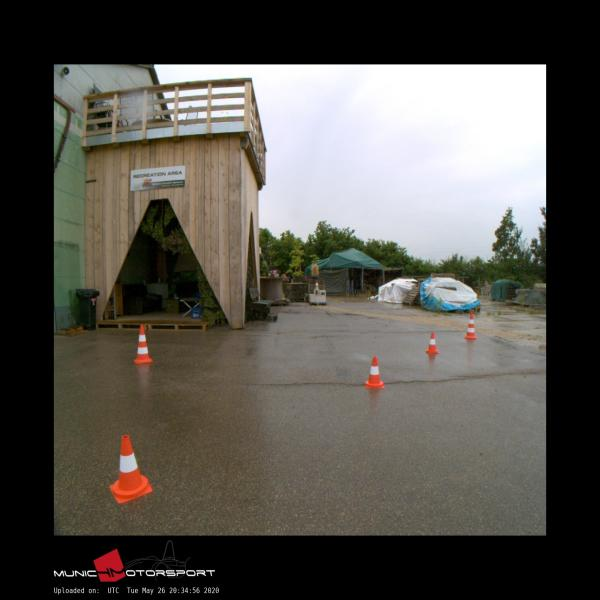large_orange_cone: (134, 324, 152, 363), (465, 313, 477, 339)
orange_cone: (110, 435, 152, 503), (365, 356, 384, 388), (425, 332, 439, 353)
